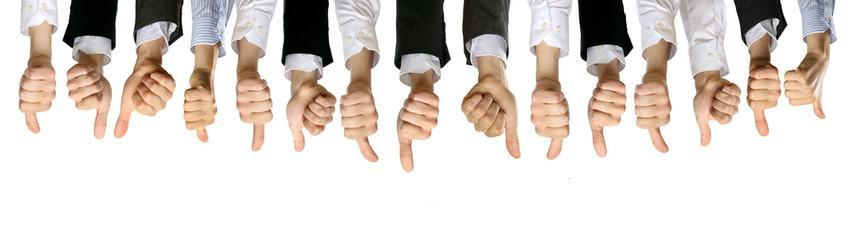thumbsdown: (113, 70, 178, 138), (462, 91, 521, 159), (397, 88, 440, 172), (693, 77, 743, 147), (66, 63, 111, 139), (588, 78, 628, 158), (339, 89, 380, 163), (290, 90, 338, 153), (235, 77, 274, 152), (633, 81, 673, 153), (531, 89, 571, 160), (18, 66, 57, 133), (747, 64, 782, 137), (784, 69, 827, 120), (183, 87, 219, 143)
